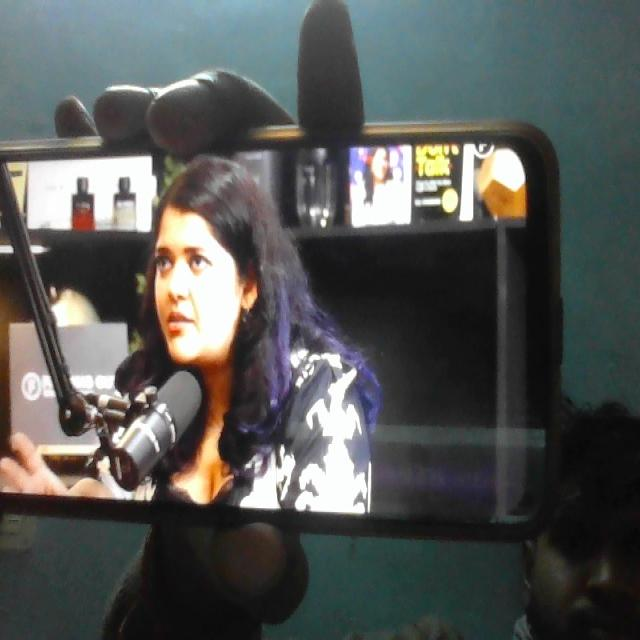fake: (140, 125, 268, 367)
